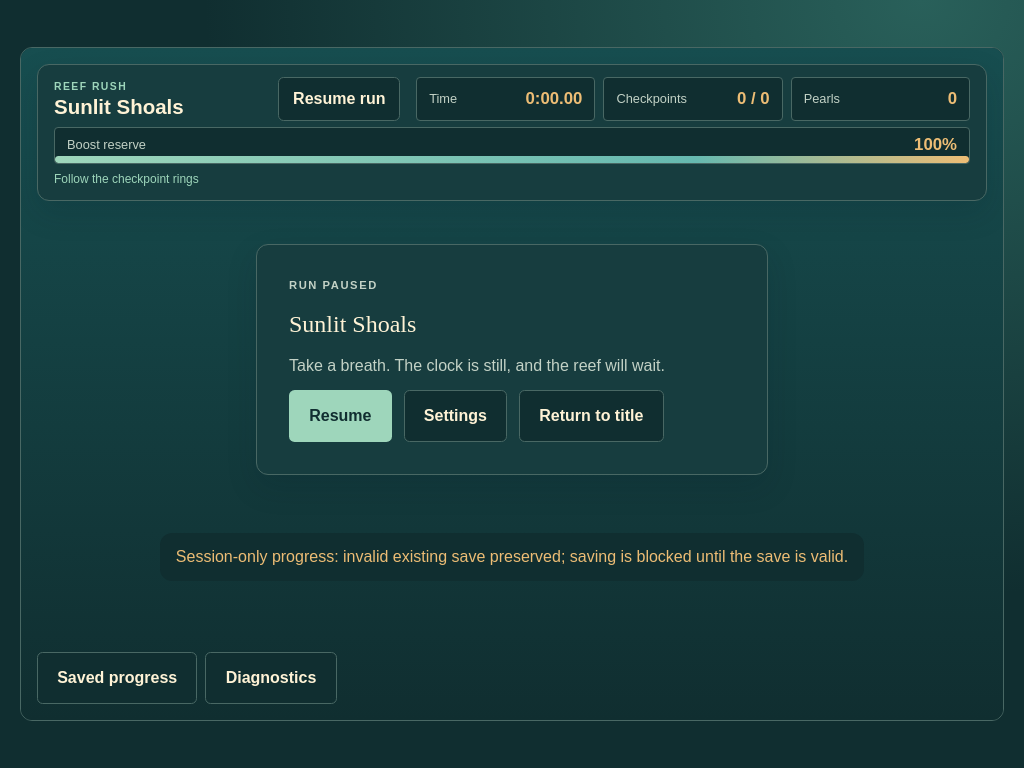
protected saved progress dialog › owns Escape and restores focus without resuming from dialog
Click the button "Saved progress". click: (117, 678)
box: x1=37 y1=652 x2=197 y2=704
(page scrolled)
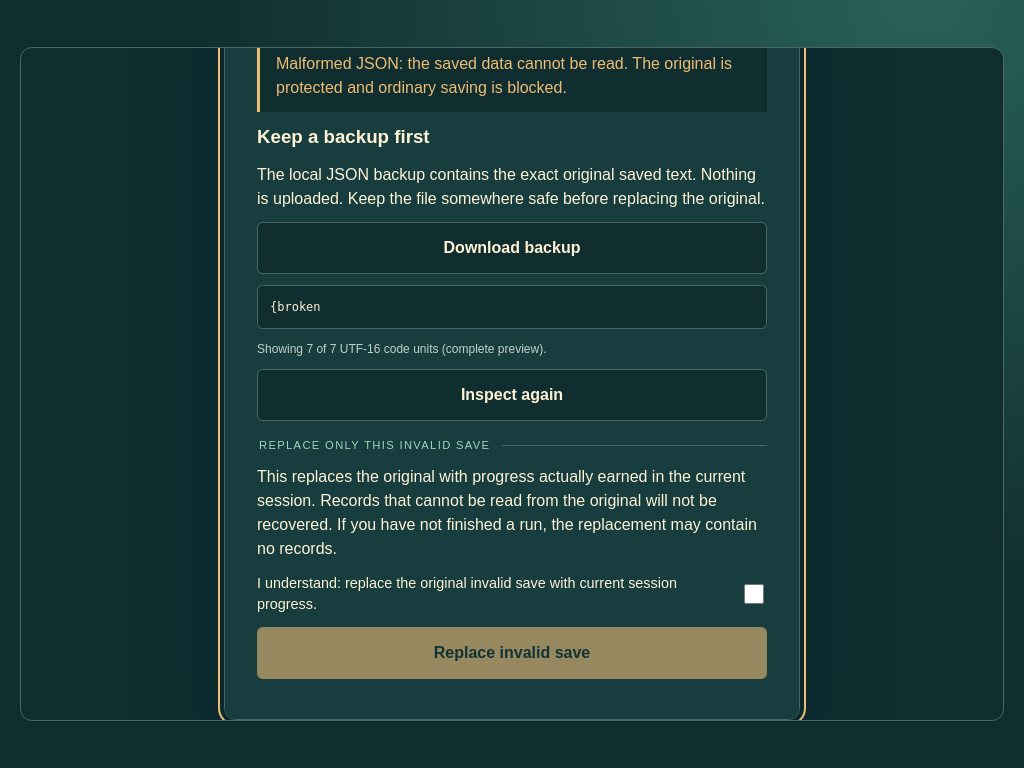
Click the checkbox. click: (754, 594)
box: x1=744 y1=584 x2=764 y2=604
(page scrolled)
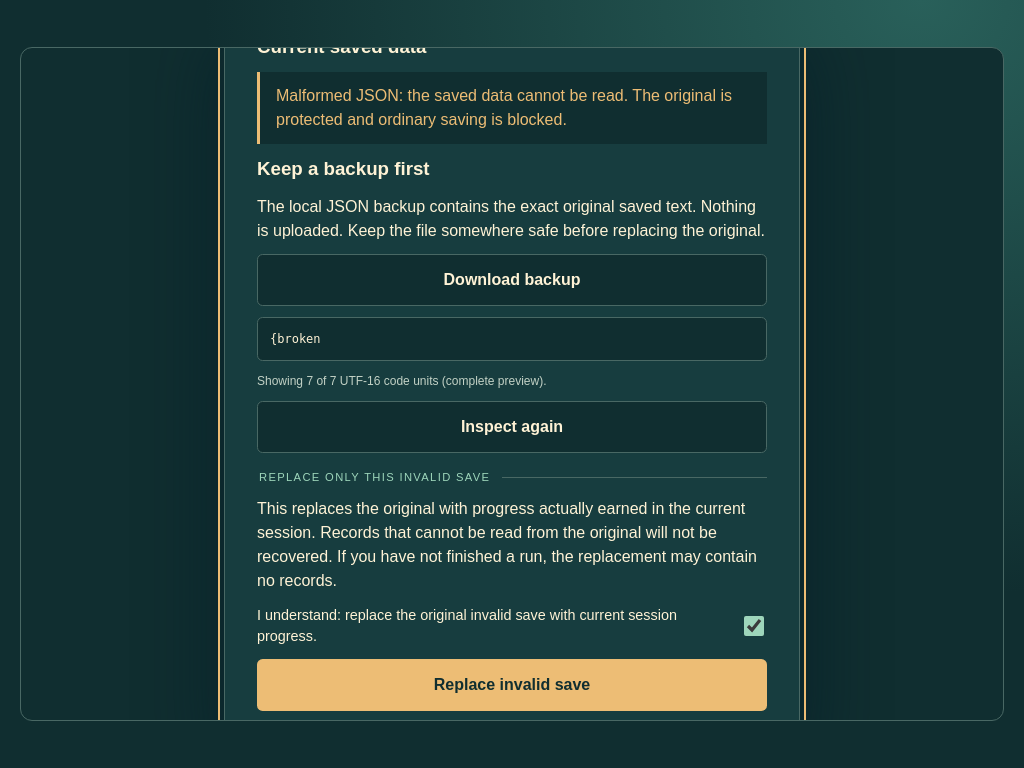
Press ArrowLeft in the dialog, box x1=224 y1=16 x2=800 y2=752
Type keys "[Escape]"
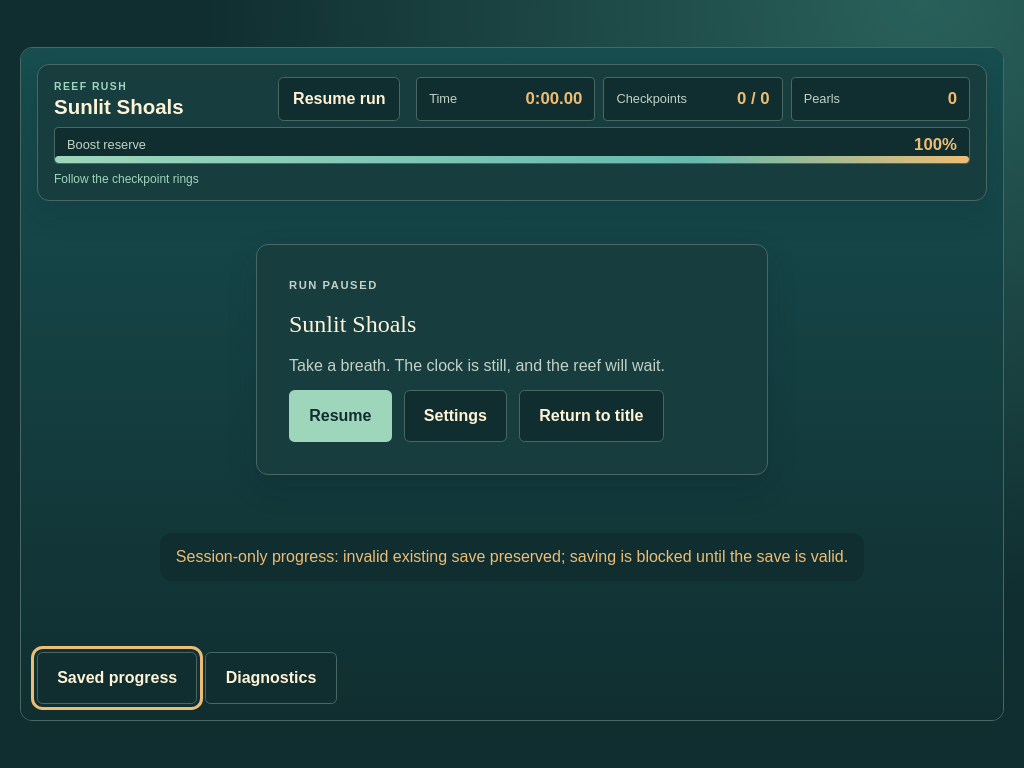
Check: the dialog is gone
